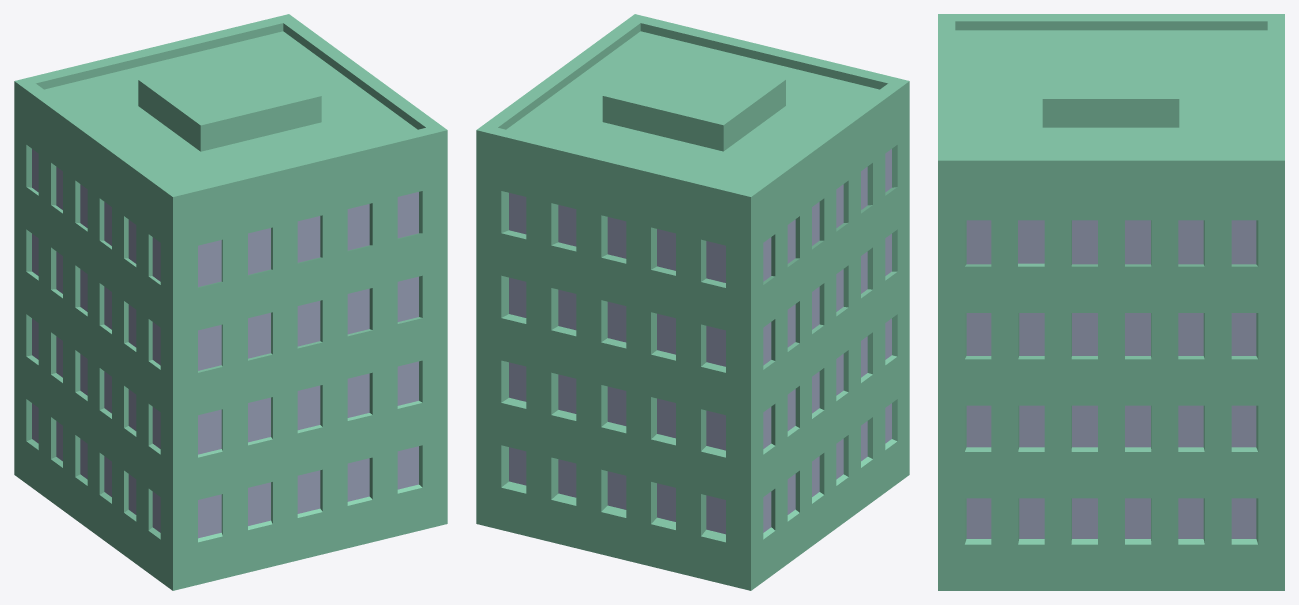
File: Colapse_B_Basic_A.fbx
3 renders of one model, left to right at view 1: azimuth 30°, elevation 25°; view 2: azimuth 150°, elevation 25°; view 3: azimuth 270°, elevation 25°, orthographic. The views are drawn at different scales.
Visible parts, largest first — view 1: 1, 2, 3; view 2: 1, 2, 3; view 3: 1, 2, 3.
Boxes of the visible parts, x1,y1,x2,y2 form: 1: (14, 14, 447, 336); 2: (14, 221, 447, 463); 3: (14, 348, 447, 590); 1: (476, 14, 909, 336); 2: (476, 221, 909, 463); 3: (476, 348, 909, 590); 1: (938, 14, 1284, 312); 2: (938, 313, 1284, 451); 3: (938, 452, 1284, 590).
Bounding box in the file's own units: 156 × 223 × 156.
